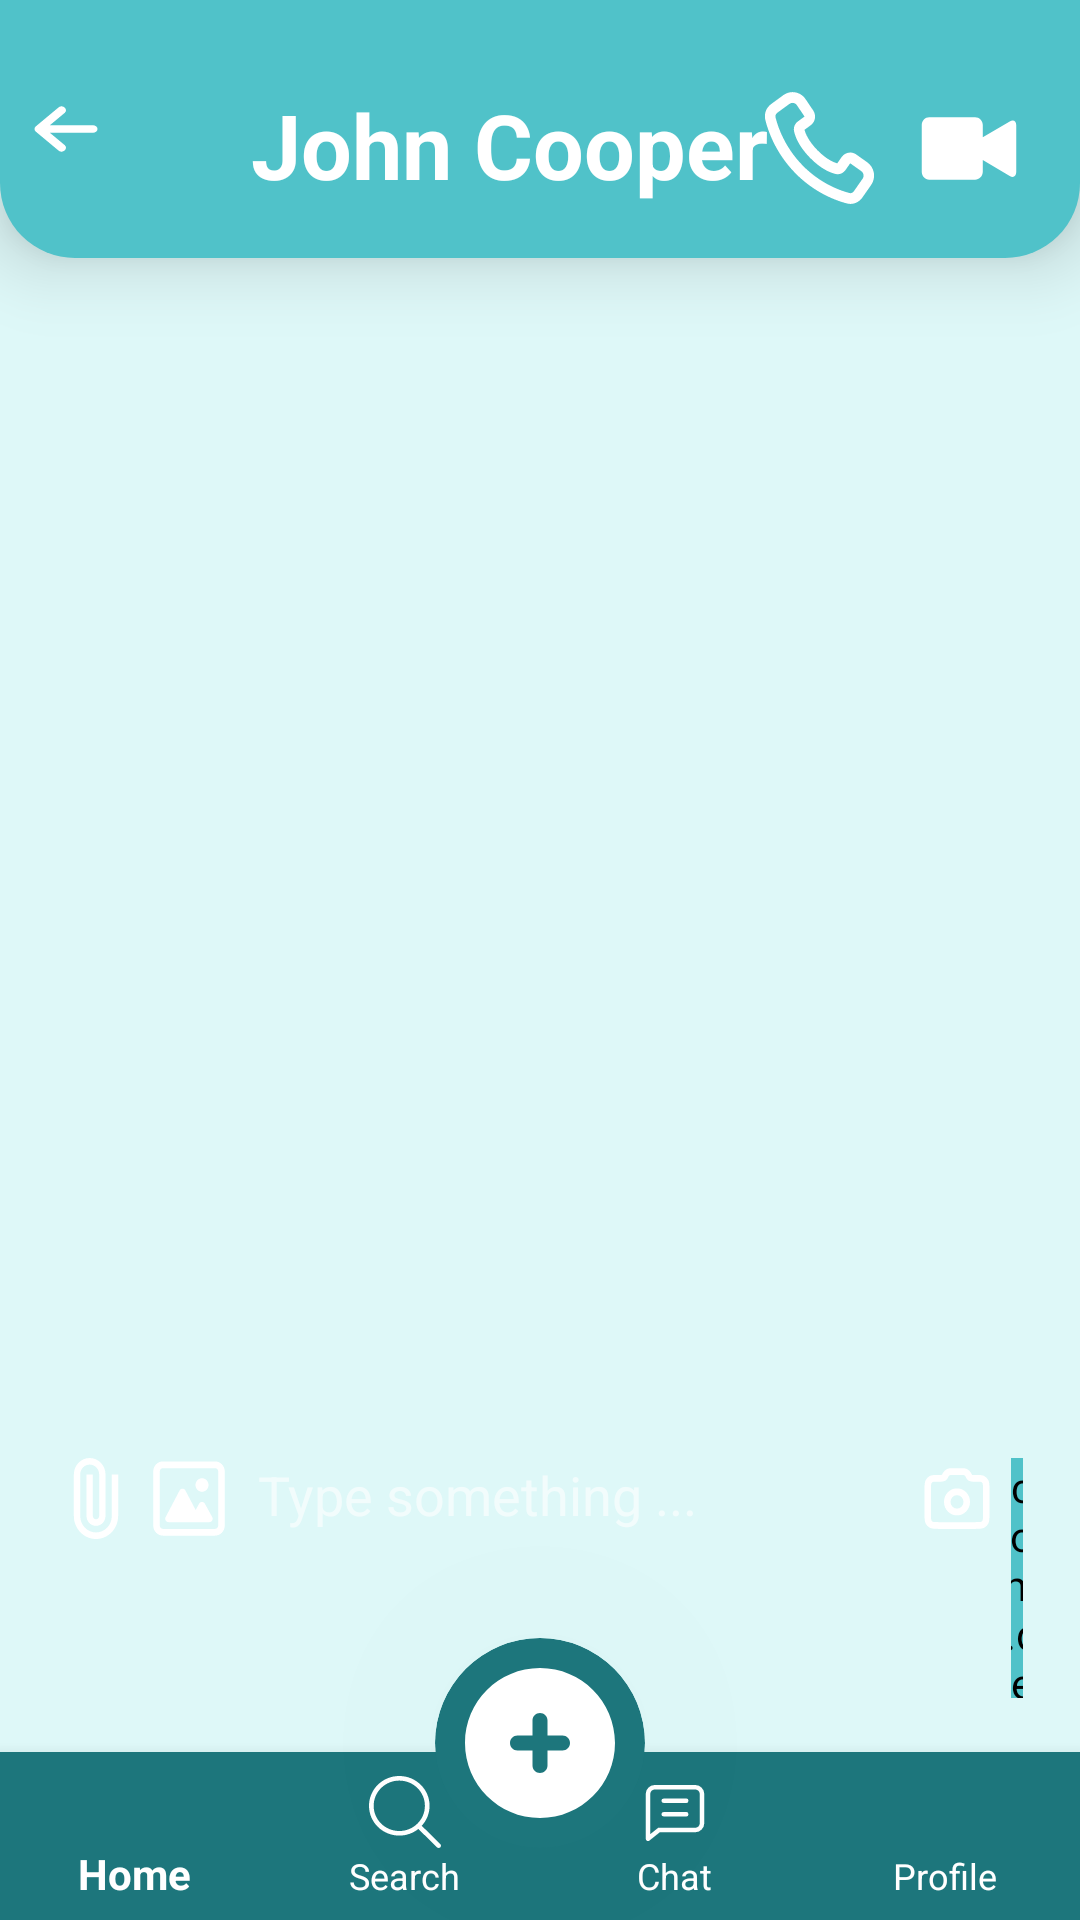

Icon click points for this 1080*1920 phone screenshot, format [x,y]:
call: [819,148]
camera: [957,1498]
clip: [96,1498]
leftarrow: [66,129]
plussvg: [540,1743]
video: [969,148]
